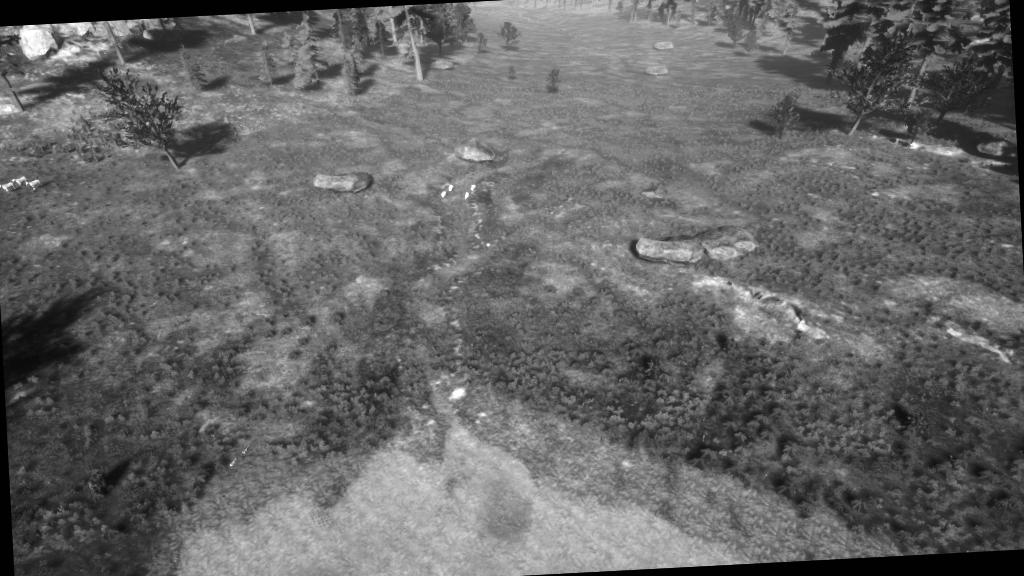pig: (434, 169, 483, 210)
zebra: (0, 162, 48, 196)
